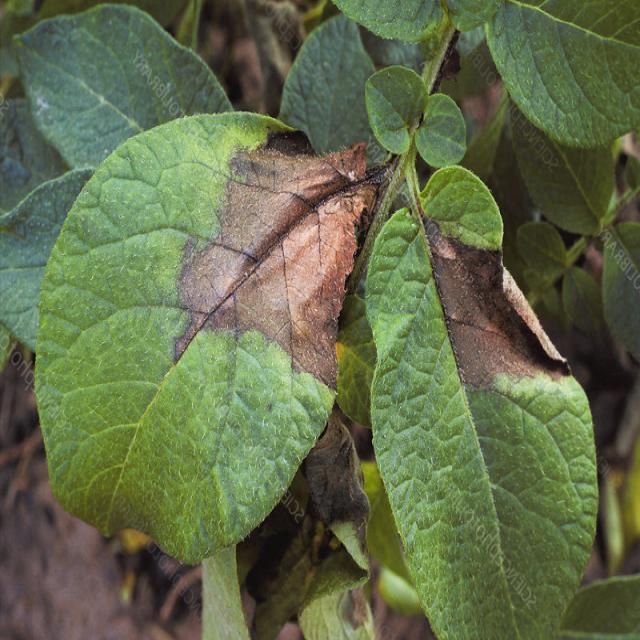Healthy Leaf: (362, 63, 428, 159), (410, 88, 468, 170)
